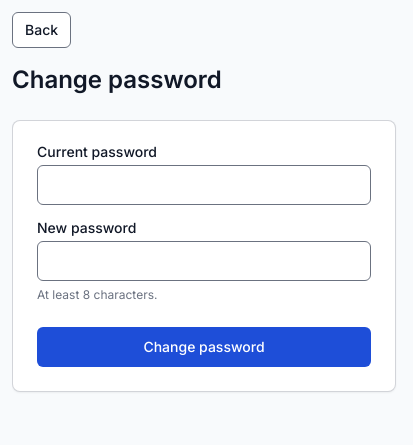
Test: AccountChangePasswordPage › voluntary change succeeds, shows confirmation, and the mocked backend now rejects the old password while accepting the new one
Type "OldPassw0rd!" into the password field labelled "Current password" at (204, 185), box [37, 165, 371, 205]
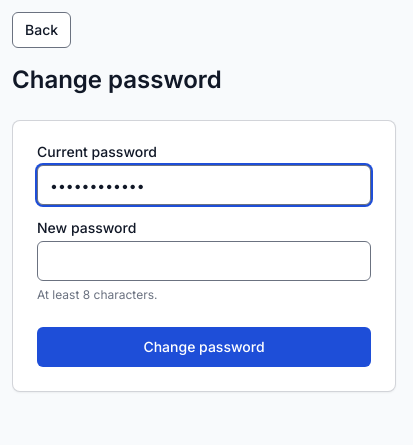
Type "BrandNewPassw0rd!" into the password field labelled "New password" at (204, 261), box [37, 241, 371, 281]
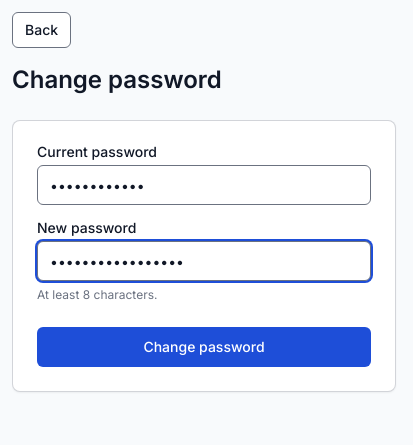
Click the button "Change password" at (204, 347), box [37, 327, 371, 367]
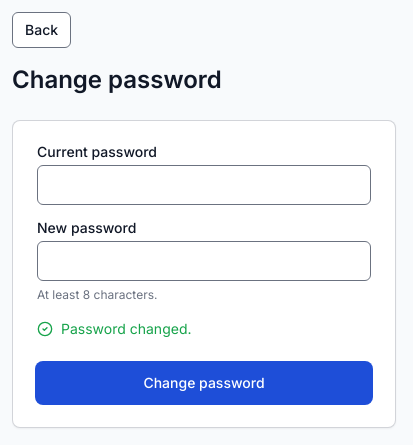
Check: the text "Password changed." is shown, box [37, 320, 192, 337]
